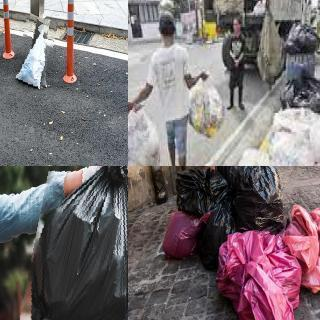Garbage: (28, 166, 128, 320), (216, 232, 305, 320), (224, 166, 295, 234), (267, 107, 320, 166), (286, 201, 320, 290), (173, 166, 232, 216), (17, 16, 55, 93), (203, 203, 244, 270), (188, 73, 227, 136), (128, 101, 164, 166), (162, 209, 205, 259), (282, 74, 320, 123), (228, 144, 286, 166), (285, 19, 320, 54)
